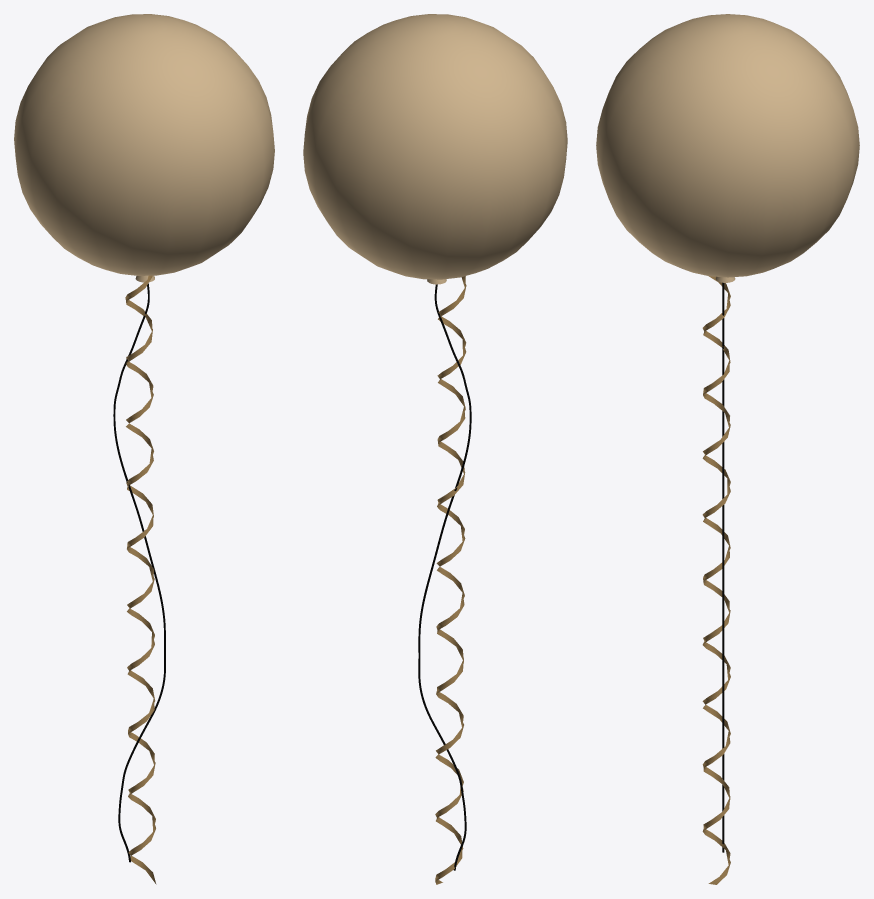
The model's file is globo1.fbx.
3 views of the same model, side by side, from view 1: azimuth 30°, elevation 25°; view 2: azimuth 150°, elevation 25°; view 3: azimuth 270°, elevation 25° (orthographic).
Parts seen in each view (by area): view 1: pSphere9, sweep4, defaultBrush1Main1; view 2: pSphere9, sweep4, defaultBrush1Main1; view 3: pSphere9, sweep4, defaultBrush1Main1.
Boxes of the visible parts, x1,y1,x2,y2 form: pSphere9: [14, 14, 274, 275]; sweep4: [125, 275, 156, 884]; defaultBrush1Main1: [113, 283, 165, 862]; pSphere9: [303, 14, 567, 279]; sweep4: [435, 276, 466, 884]; defaultBrush1Main1: [418, 284, 471, 870]; pSphere9: [596, 14, 859, 277]; sweep4: [702, 276, 730, 884]; defaultBrush1Main1: [722, 282, 724, 852].
Bounding box in the file's own units: 2.93 × 10.48 × 2.93.
